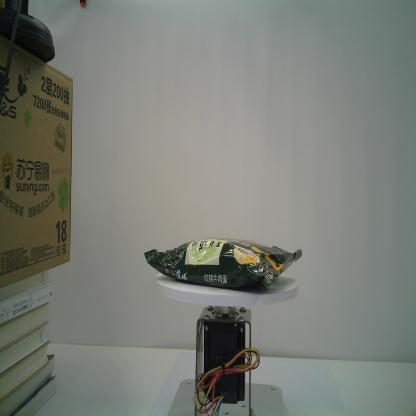Instant Noodles: (144, 237, 302, 288)
